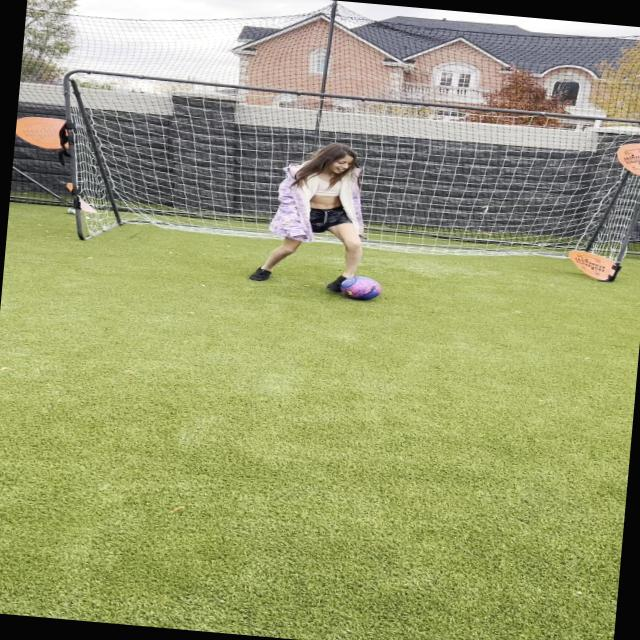Soccer Ball: (338, 275, 380, 302)
